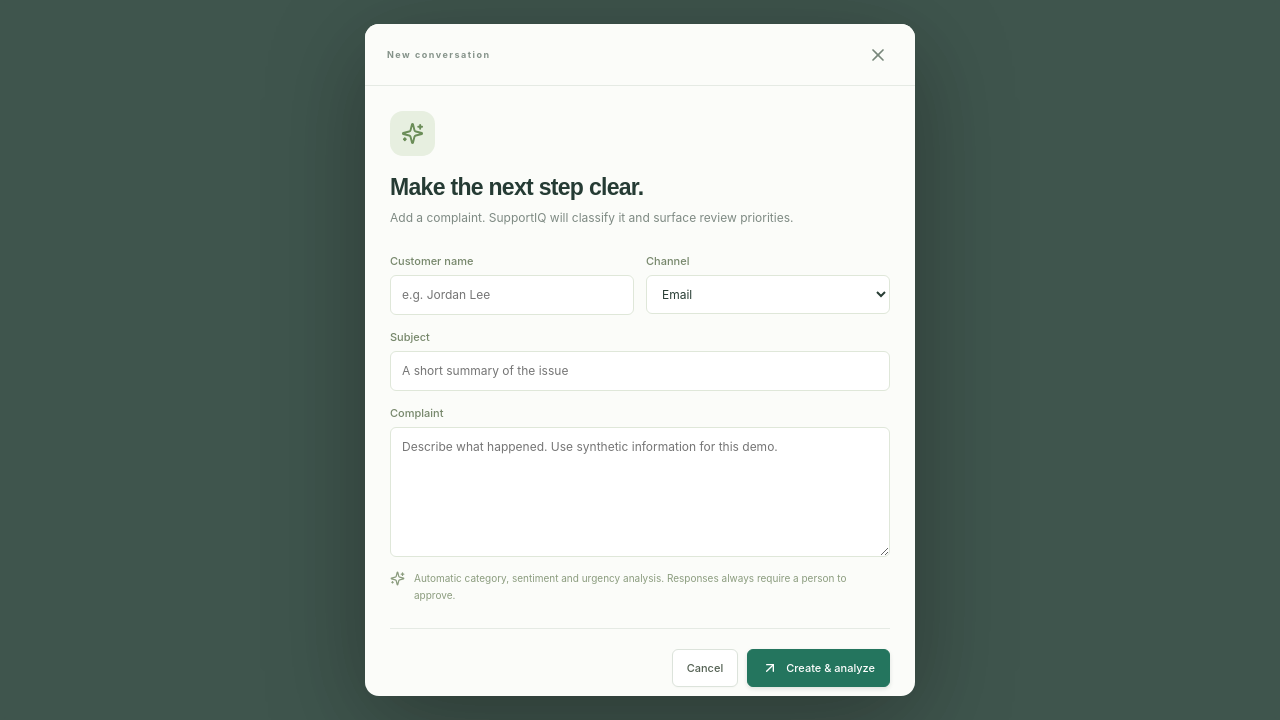
Test: support workflow › shows an API error without claiming a successful creation
Type "Test Person" into the field labelled "Customer name".
click(512, 295); type("Test Person")  # box [390,275,634,315]
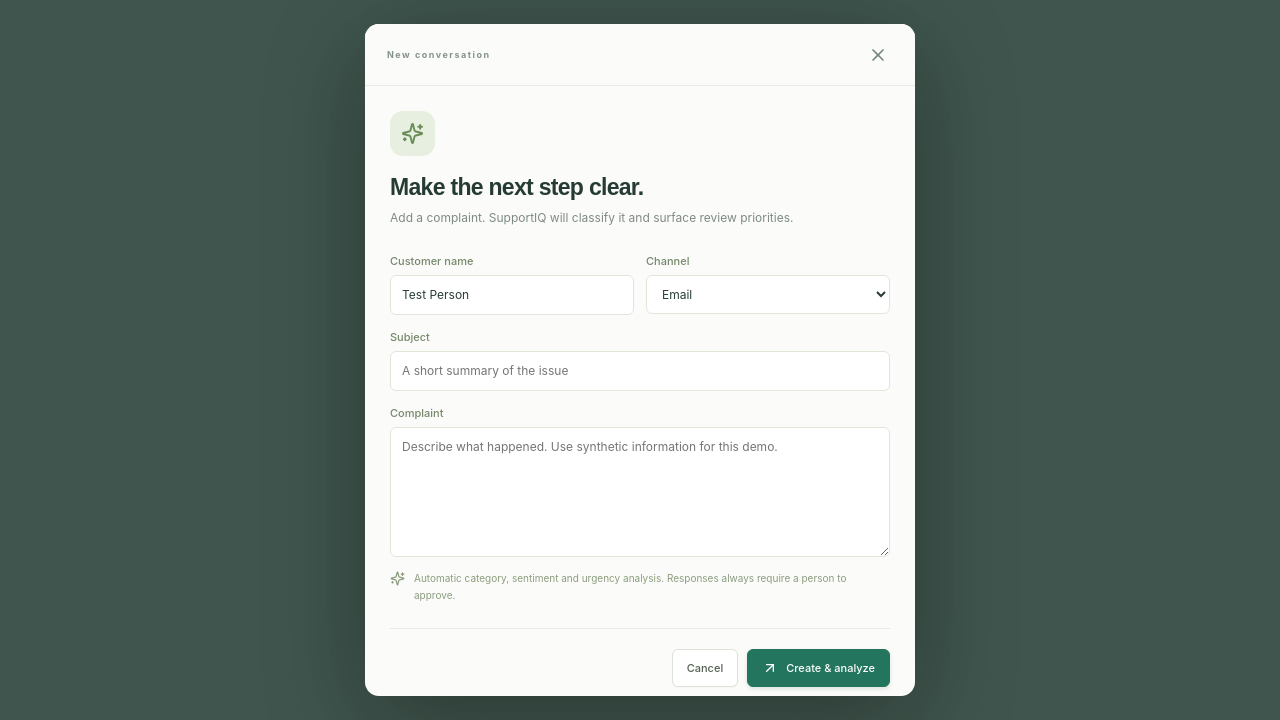
Type "A valid subject" into the field labelled "Subject".
click(640, 371); type("A valid subject")  # box [390,351,890,391]
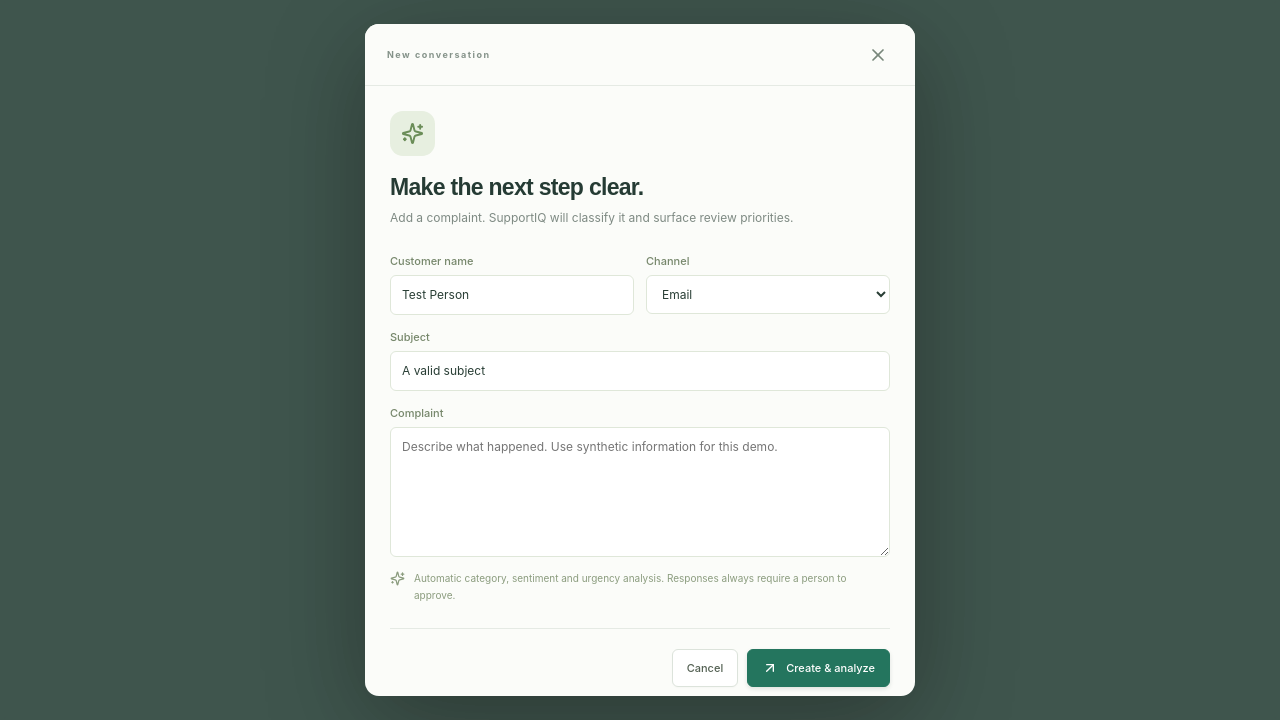
Replace the text in the text box labelled "Complaint" with "This complaint has more than twenty characters." at (640, 492), box [390,427,890,557]
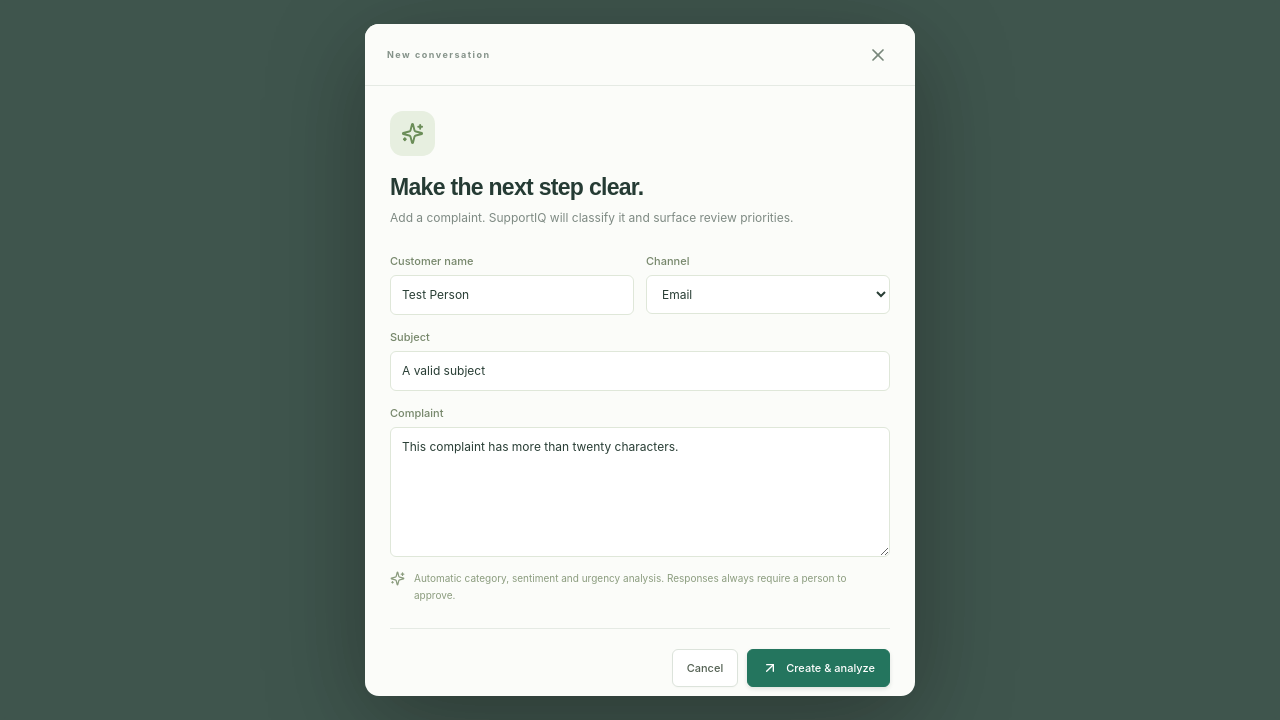
Submit the form named "Create & analyze", box [365,86,915,712]
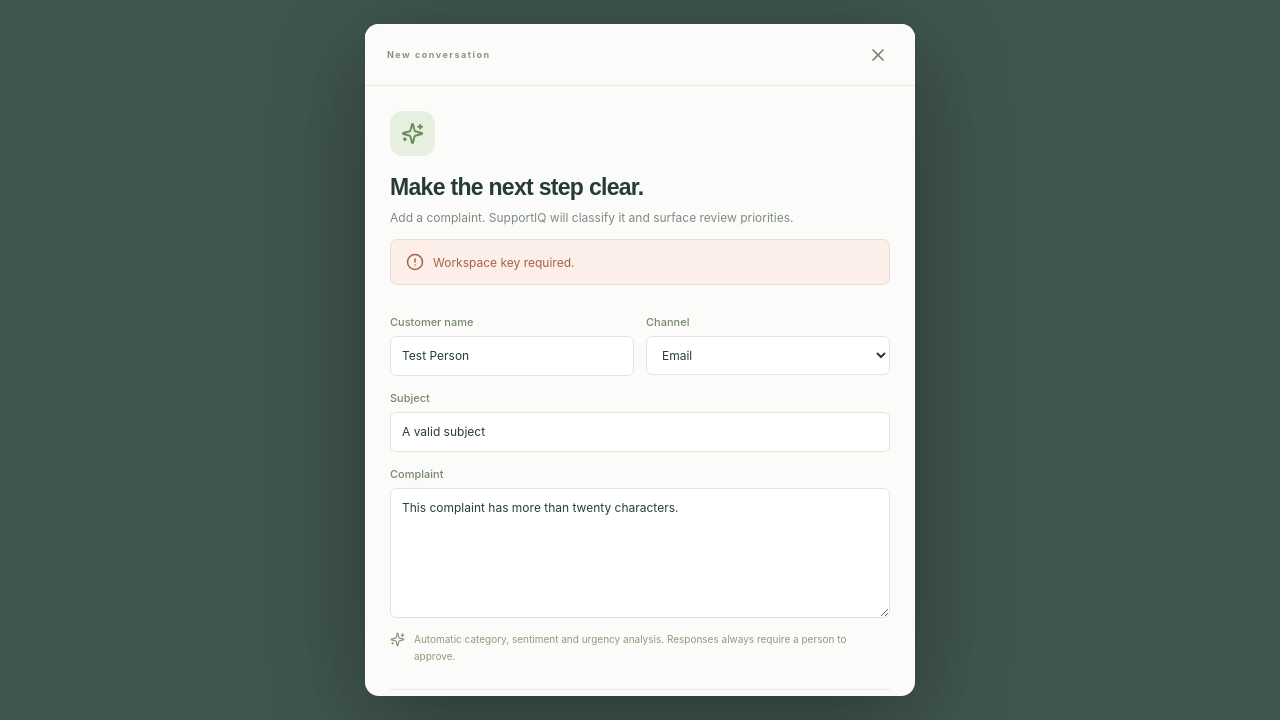
Now the message reads "Workspace key required.", box [433,255,574,270]
